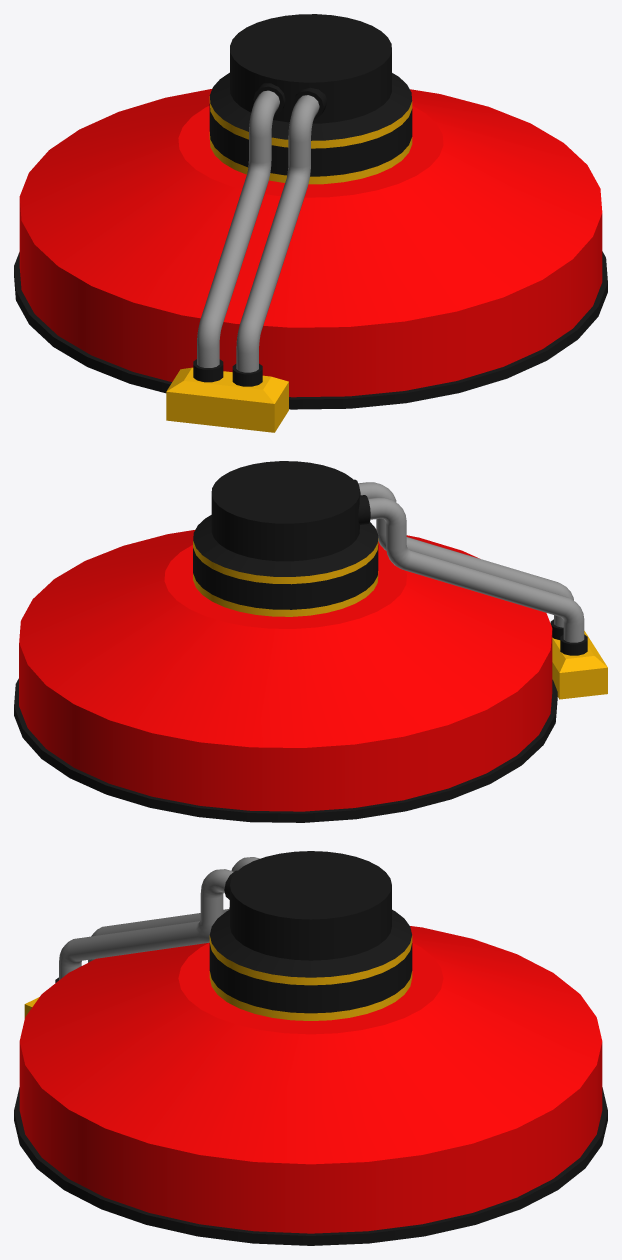
Rendered from SM_LargeFuelTank.FBX.
3 views of the same model, one above another, from view 1: azimuth 30°, elevation 25°; view 2: azimuth 150°, elevation 25°; view 3: azimuth 270°, elevation 25° (orthographic). The views are drawn at different scales.
Visible parts, largest first — view 1: Cylinder001; view 2: Cylinder001; view 3: Cylinder001.
Boxes of the visible parts, <box> form: Cylinder001: <box>14,14,607,432</box>; Cylinder001: <box>14,461,607,822</box>; Cylinder001: <box>14,851,607,1245</box>.
Size of the model in its own units: 2039 by 891 by 2039.
